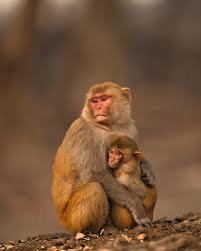monkey: (73, 123, 181, 228), (62, 41, 113, 234)
